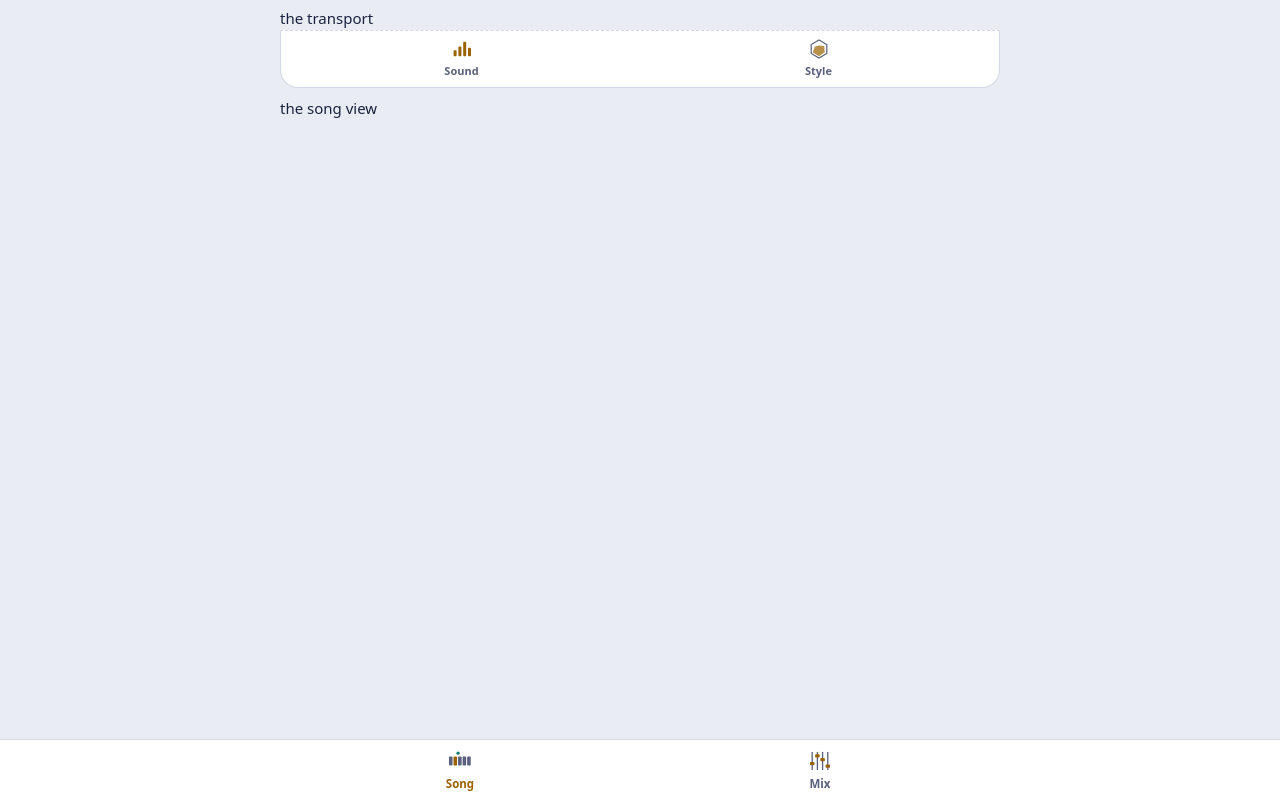
Test: the shell › takes the sheet up from its grab, from the scrim, or when a view is chosen
The image size is (1280, 800).
Click the button "Sound" at (462, 58), box [283,33,640,83]
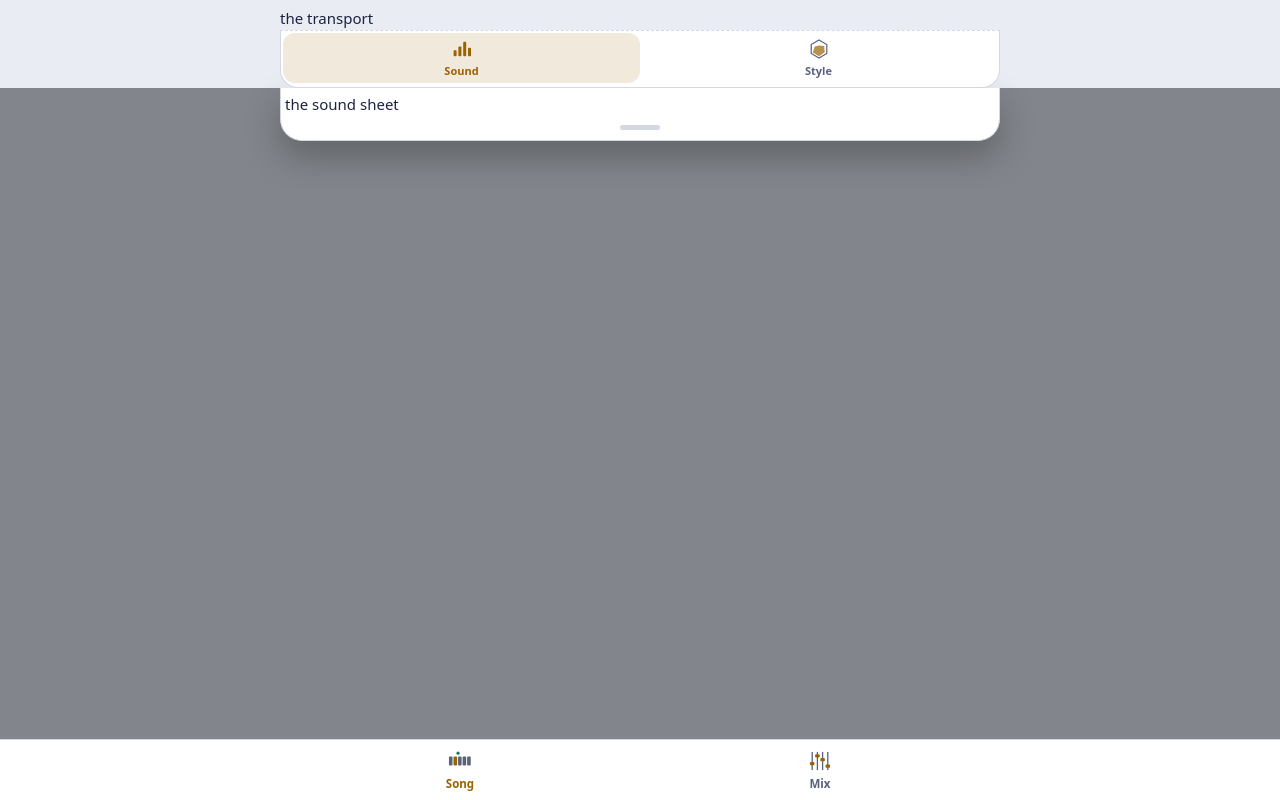
Click the button named "Hide Sound" at (640, 128), box [281,116,999,140]
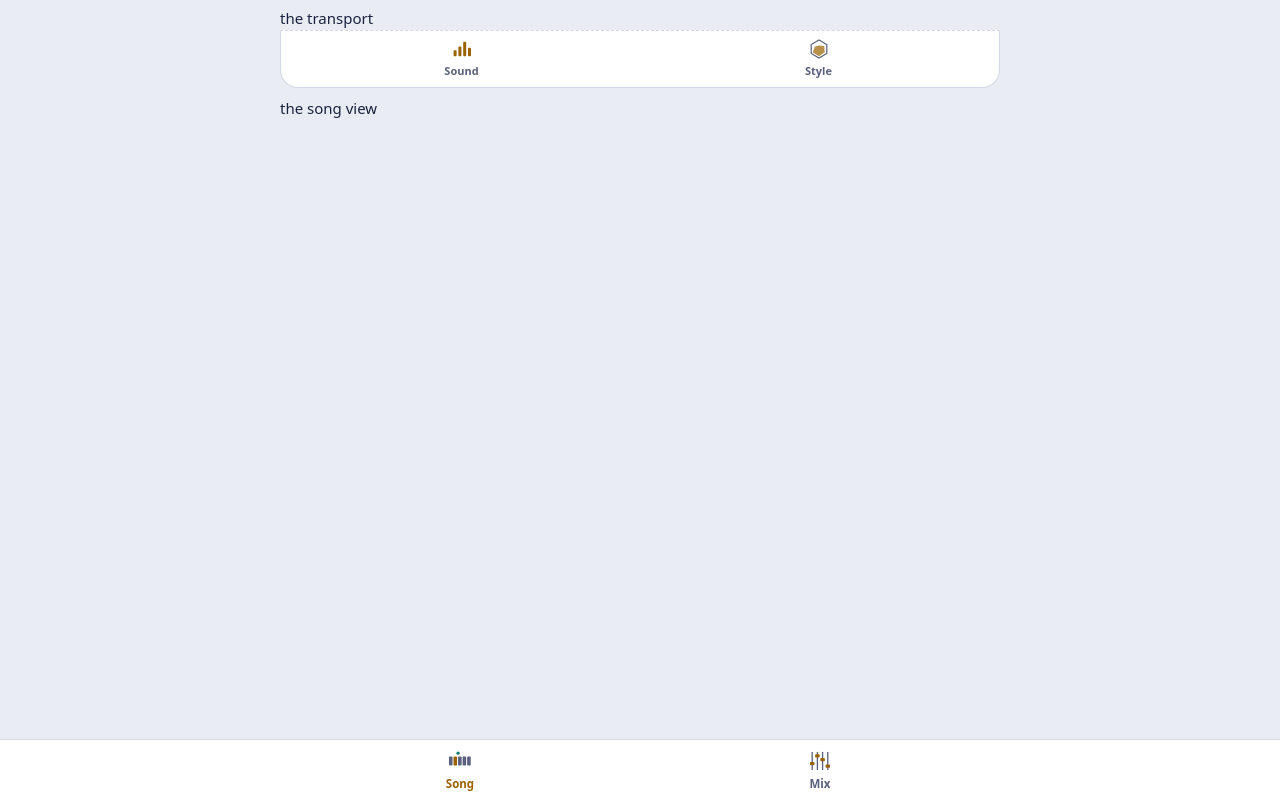
Expected: the text "the sound sheet" is gone
Click the button "Sound" at (462, 58), box [283,33,640,83]
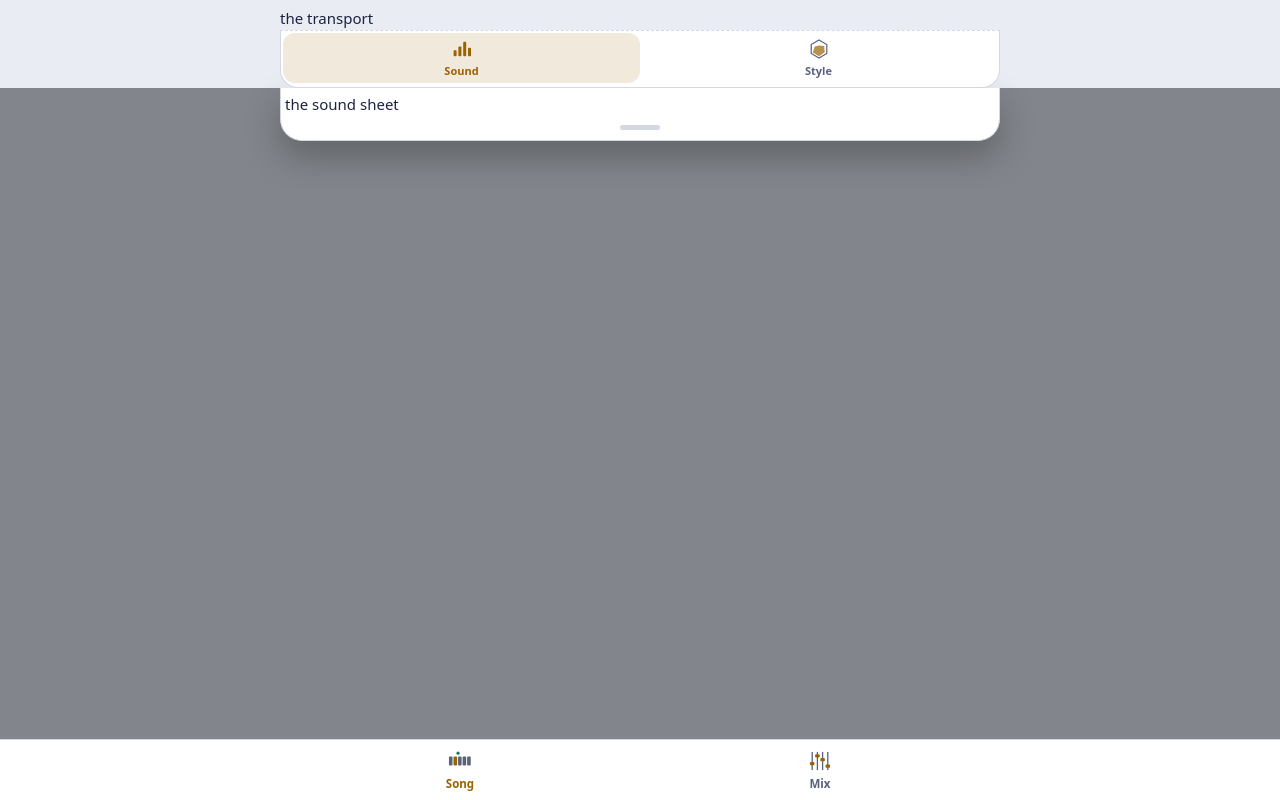
Click the button named "Close the drawer" at (640, 413), box [0,88,1279,739]
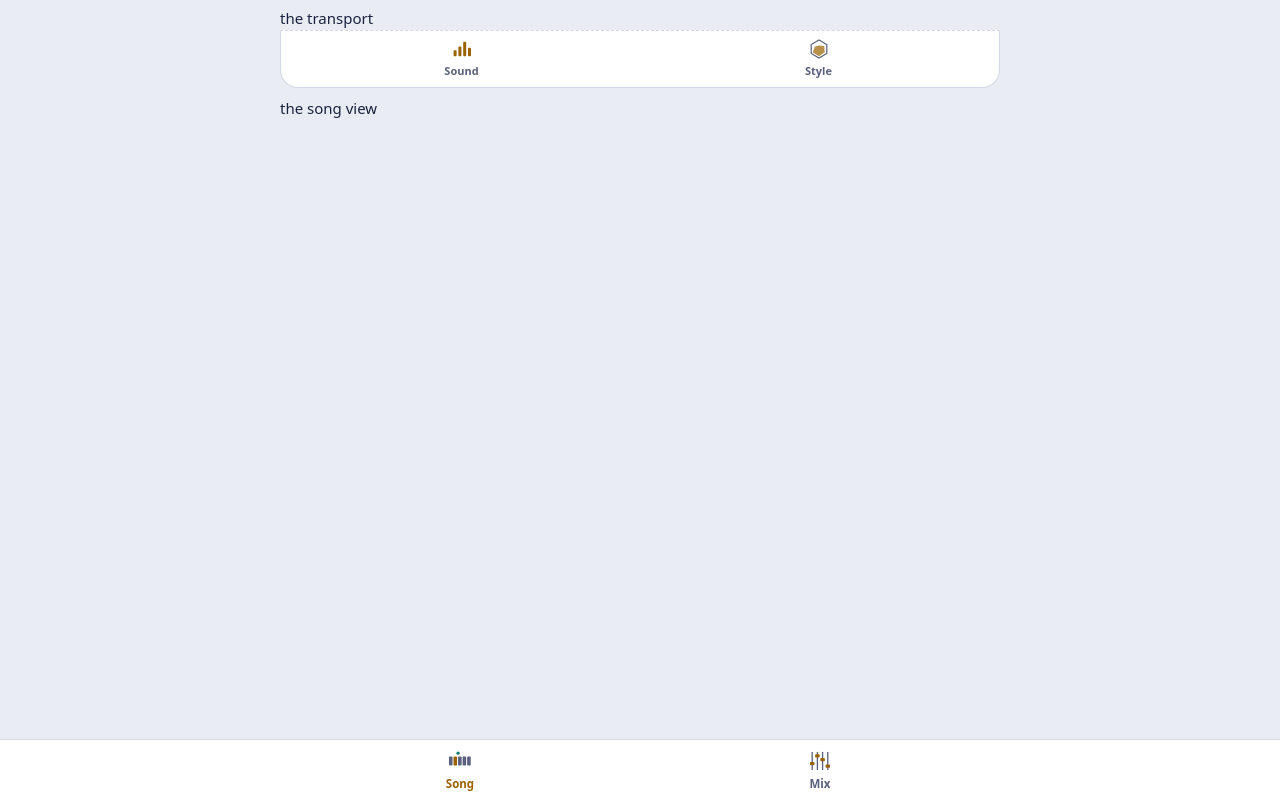
Expected: the text "the sound sheet" is gone
Click the button "Sound" at (462, 58), box [283,33,640,83]
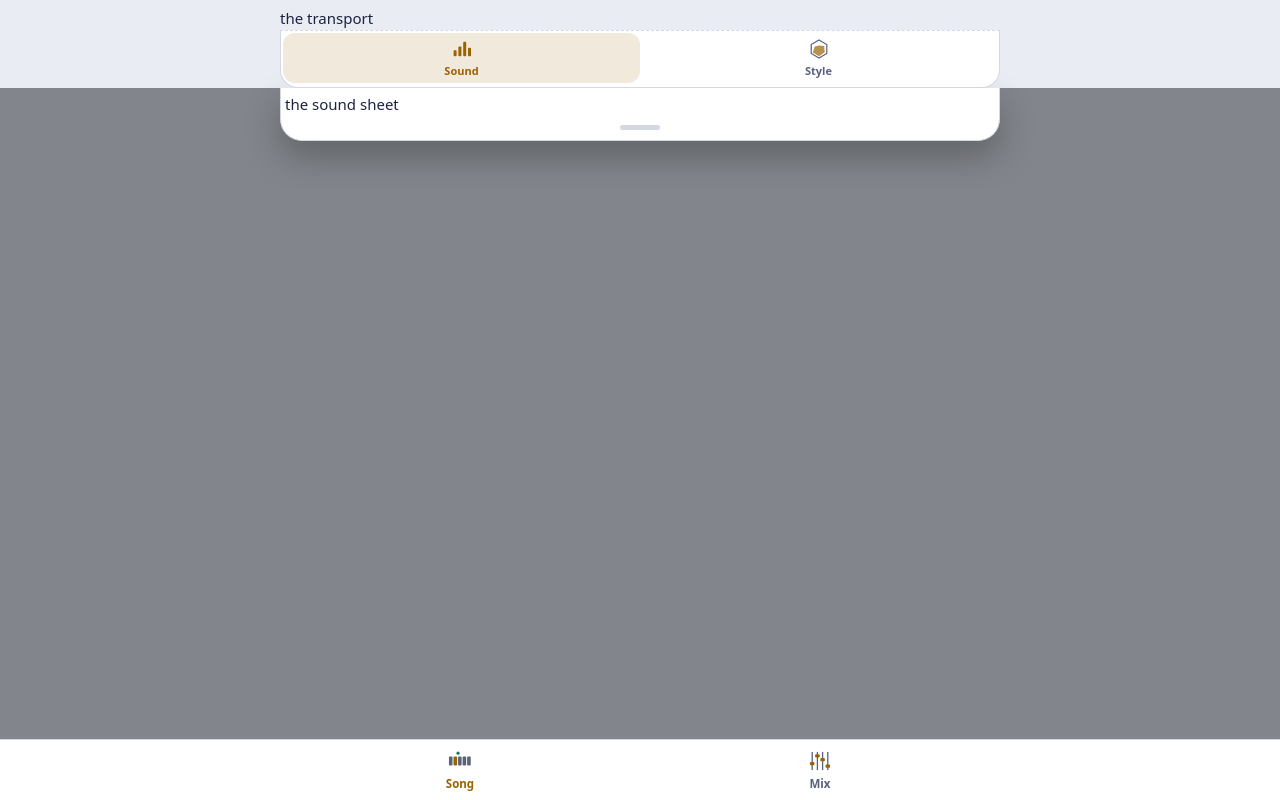
Click the tab "Mix" at (820, 770), box [640,740,1000,799]
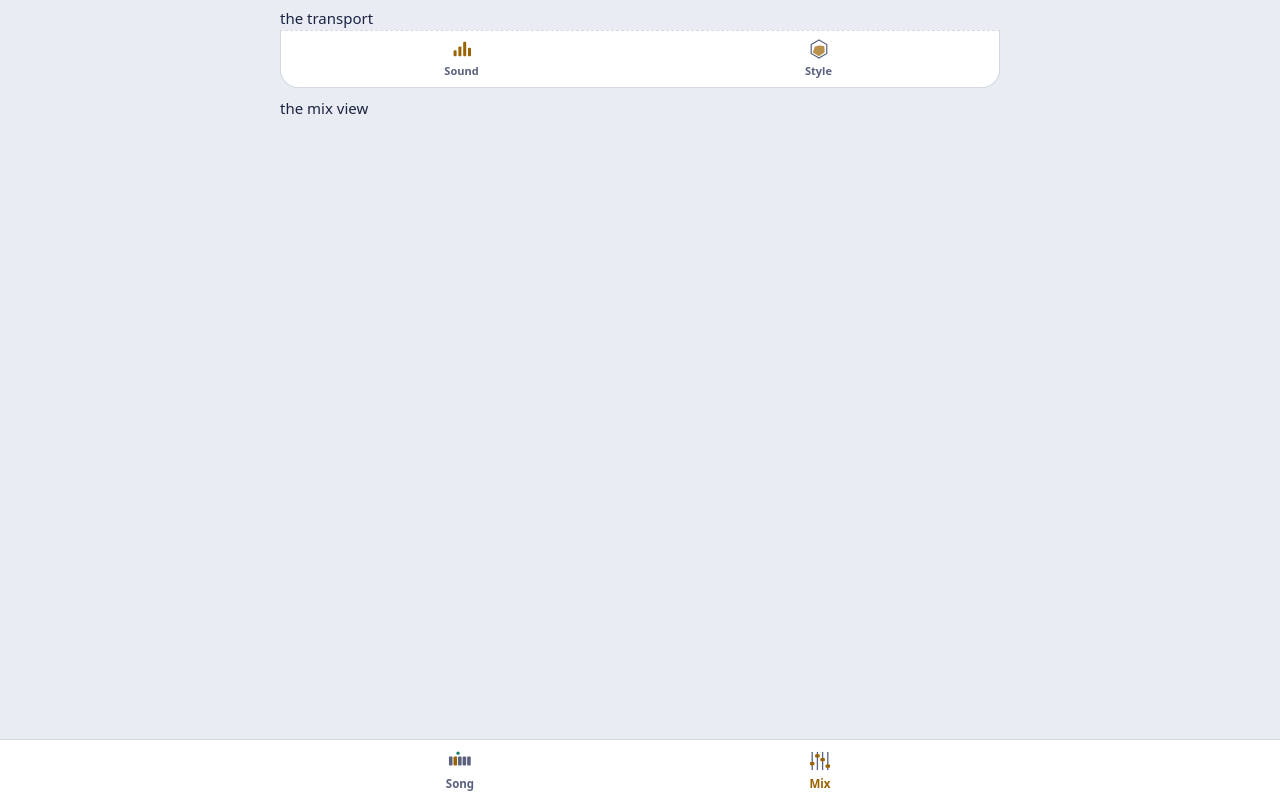
Expected: the text "the sound sheet" is gone
Expected: the text "the mix view" is shown, [280,98,368,118]
Expected: the text "the song view" is gone
